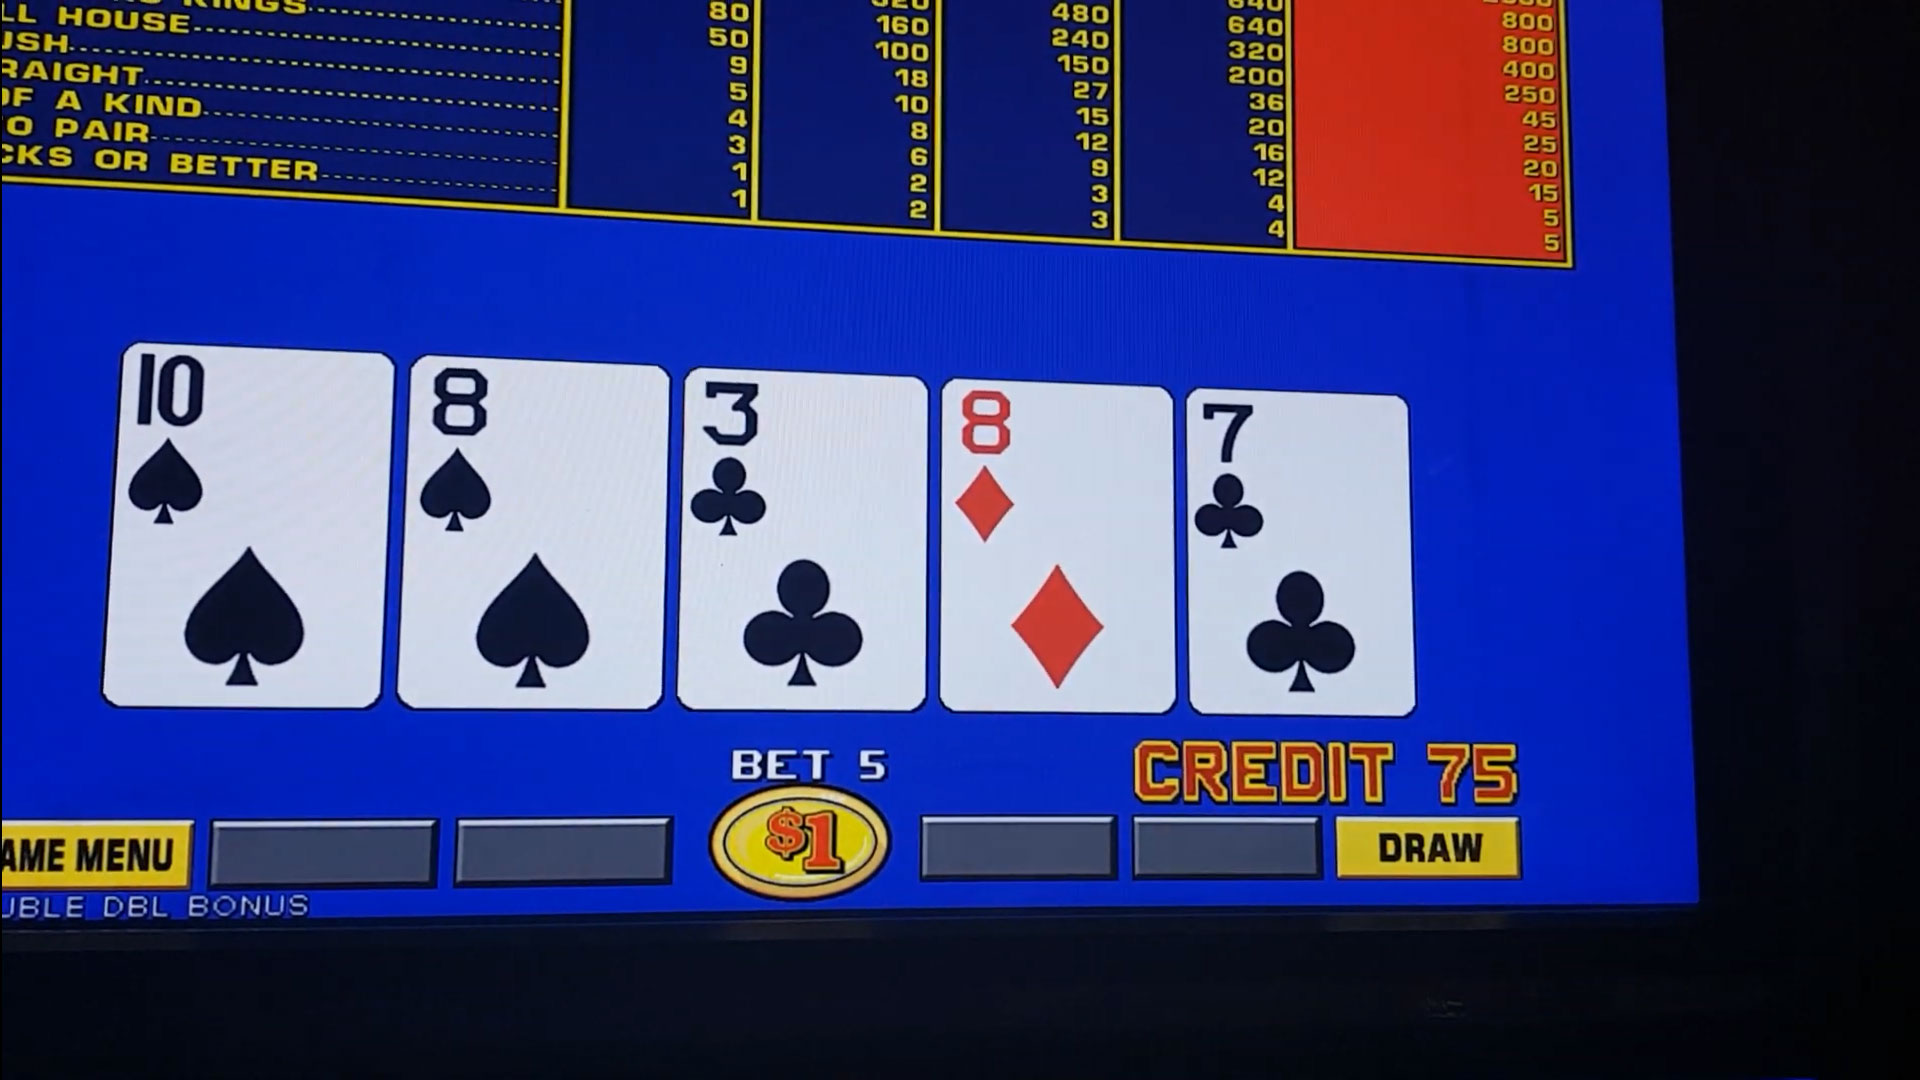C3: (687, 382, 923, 545)
C7: (1191, 400, 1404, 562)
D8: (945, 388, 1166, 556)
S8: (418, 367, 662, 547)
ST: (131, 359, 386, 533)
